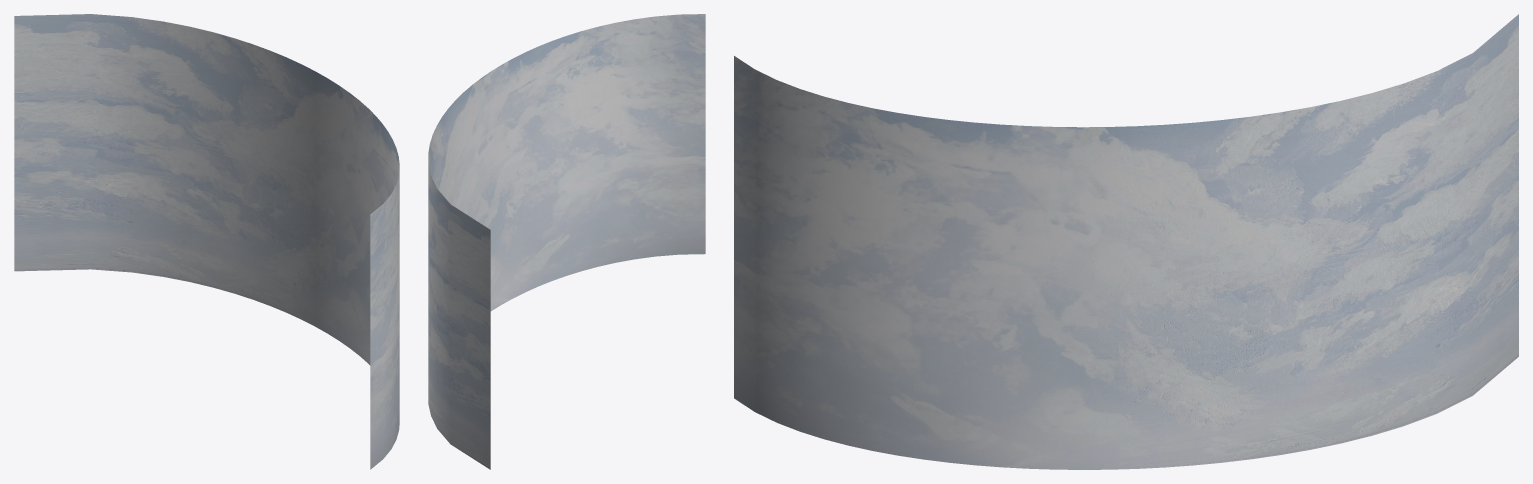
Rendered from KS_Sky.glb.
3 renders of one model, left to right at view 1: azimuth 30°, elevation 25°; view 2: azimuth 150°, elevation 25°; view 3: azimuth 270°, elevation 25°, orthographic. The views are drawn at different scales.
Visible parts, largest first — view 1: SM_Sky; view 2: SM_Sky; view 3: SM_Sky.
Part boxes in pixels (x1=…): SM_Sky: x1=14, y1=14, x2=399, y2=469; SM_Sky: x1=428, y1=14, x2=705, y2=469; SM_Sky: x1=734, y1=14, x2=1518, y2=469.
Bounding box in the file's own units: 11.66 × 16.47 × 34.17.
Materials: 1 (1 with a texture image).
